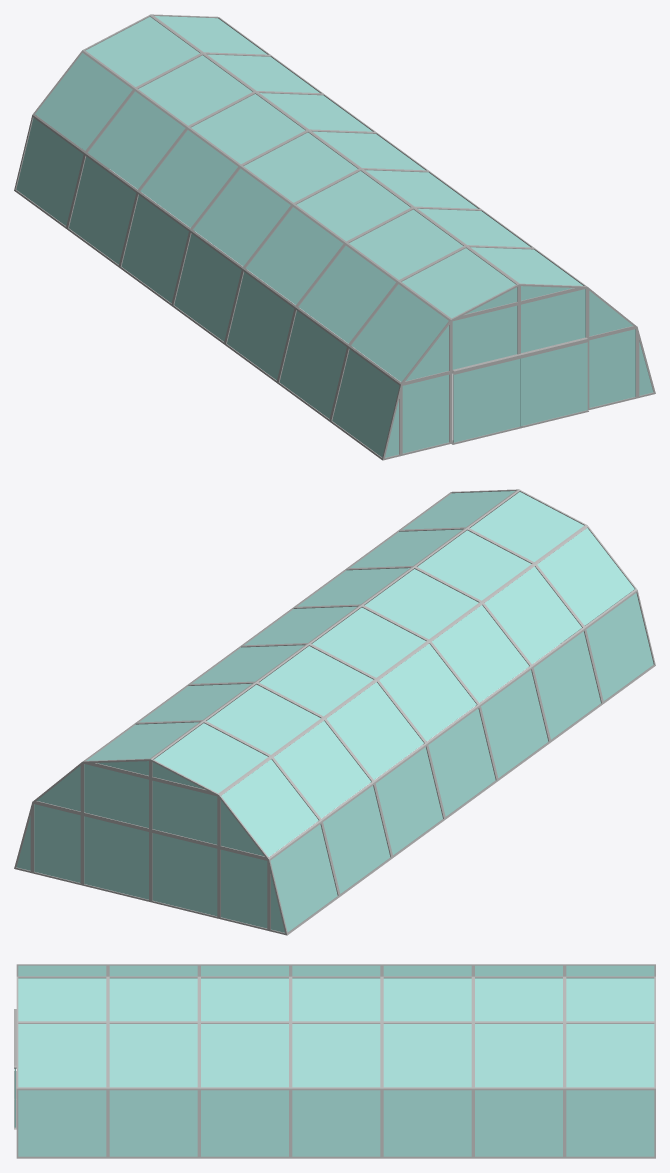
File: greenhouse02.fbx
The picture shows the model from 3 angles, top to bottom: view 1: azimuth 30°, elevation 25°; view 2: azimuth 150°, elevation 25°; view 3: azimuth 270°, elevation 25°; orthographic projection. The views are drawn at different scales.
Visible parts, largest first — view 1: greenhouse02, greenhouse02leftdoor, greenhouse02rightdoor; view 2: greenhouse02; view 3: greenhouse02.
Boxes of the visible parts, box(x1,y1,x2,y2) form: greenhouse02: box(14, 14, 655, 460); greenhouse02leftdoor: box(451, 354, 521, 444); greenhouse02rightdoor: box(520, 337, 589, 428); greenhouse02: box(14, 489, 655, 935); greenhouse02: box(16, 964, 655, 1158).
Bounding box in the file's own units: 529 × 266 × 1240.
